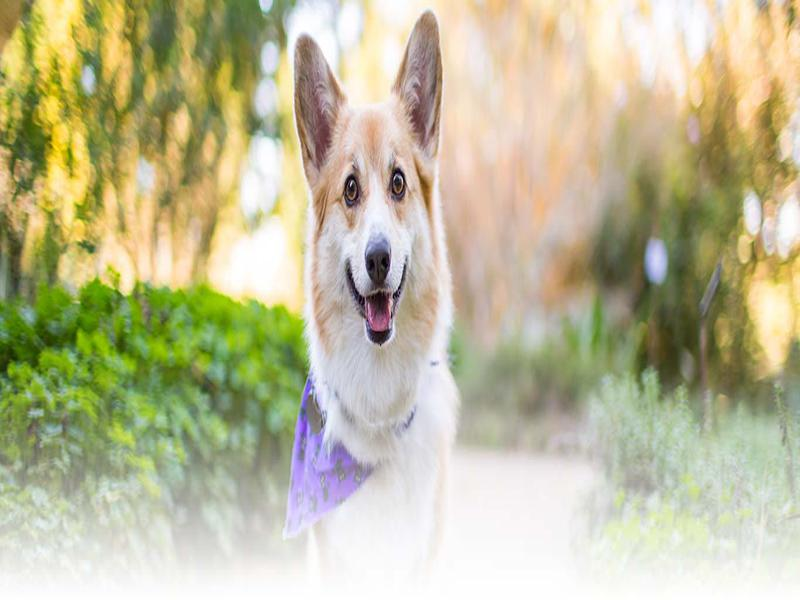corgi: (290, 7, 449, 344)
